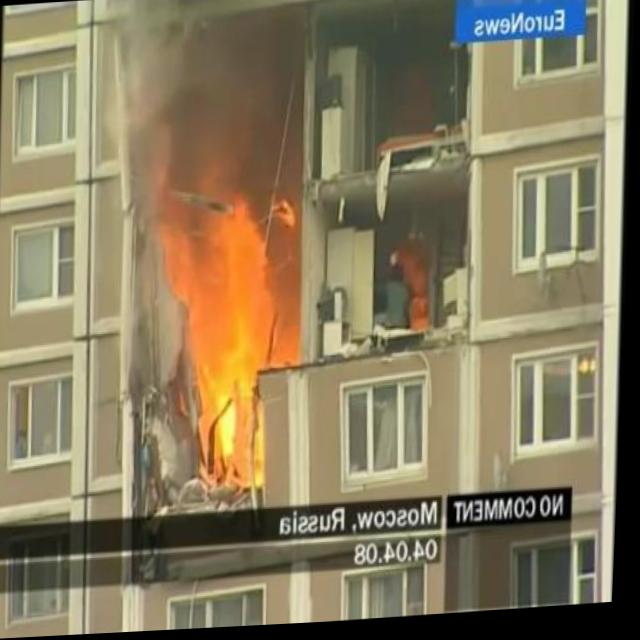fire: (179, 171, 273, 499)
